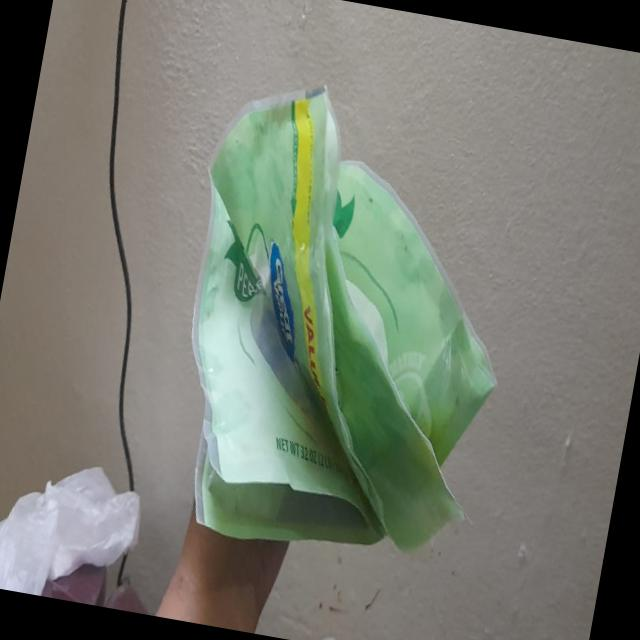Plastic - Recyclable: (143, 64, 542, 576)
